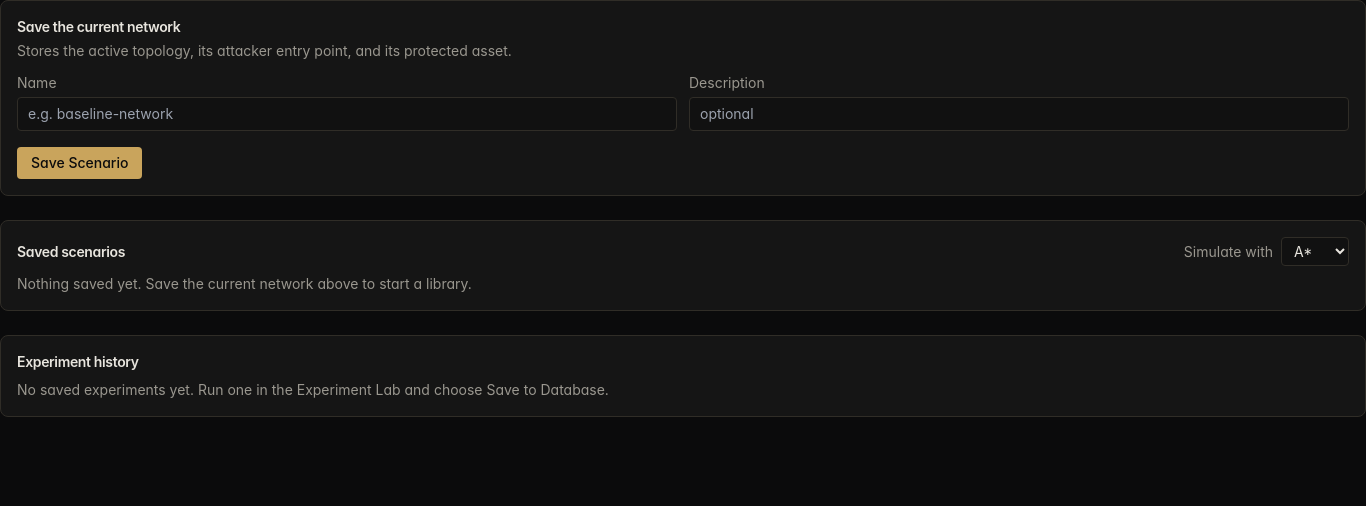
Test: ScenariosPage › saves the current network and refreshes the list
Expected: the text "Nothing saved yet" is shown, [17, 275, 472, 292]
Type "my-net" into the field named "Scenario name". click: (347, 114)
box: [17, 97, 677, 131]
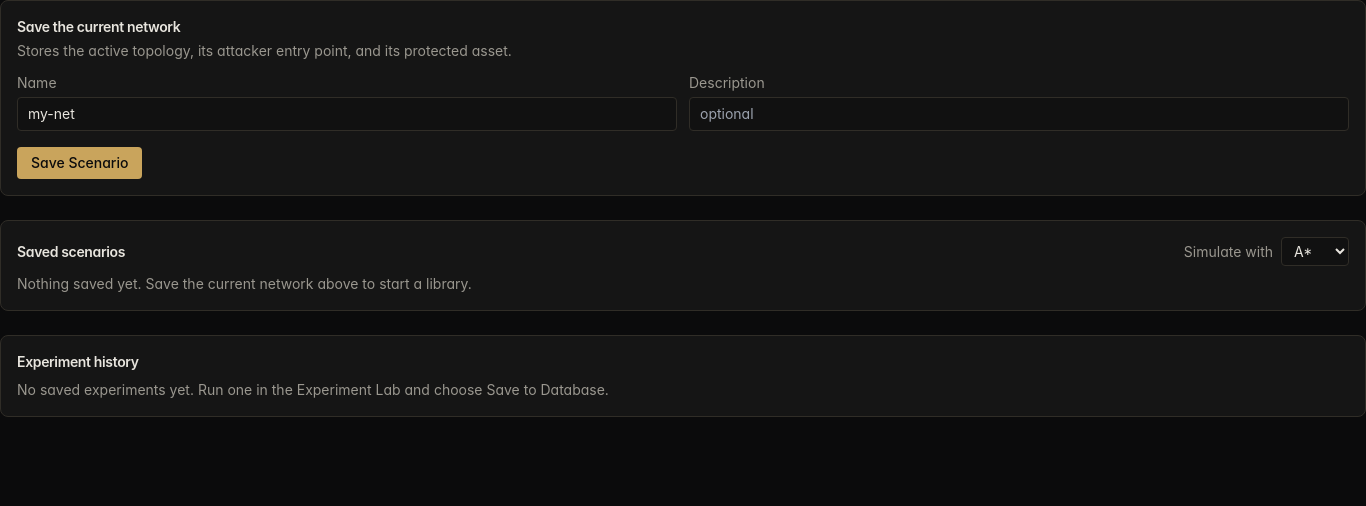
Click the button "Save Scenario". click: (80, 163)
box: [17, 147, 142, 179]
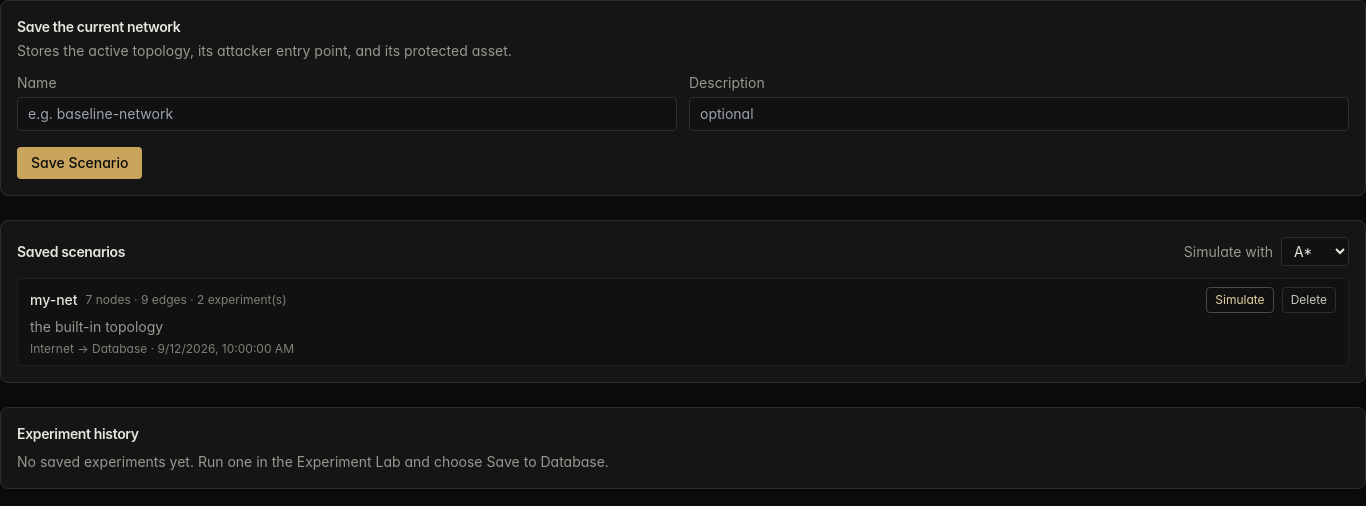
Result: the text "my-net" is shown at [30, 290, 78, 310]
